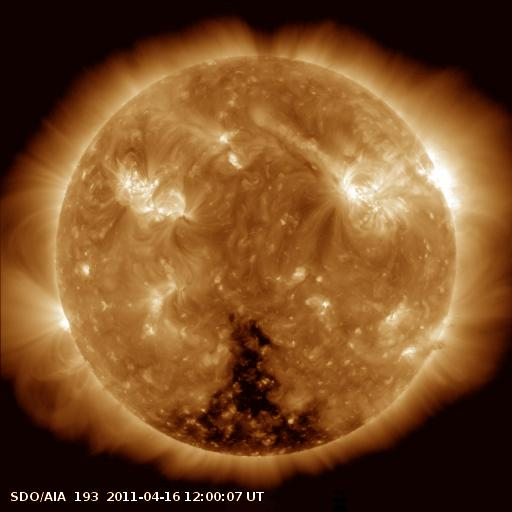coronal_hole: (150, 310, 329, 459)
